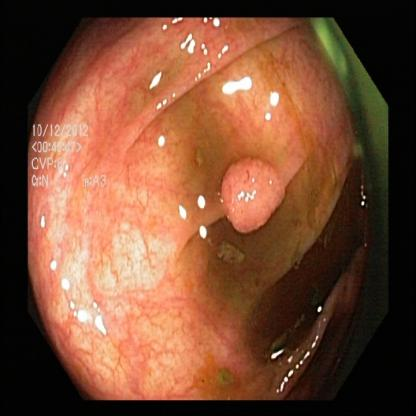Labels: (28, 118, 114, 196)
Polyps: (216, 150, 296, 244)
